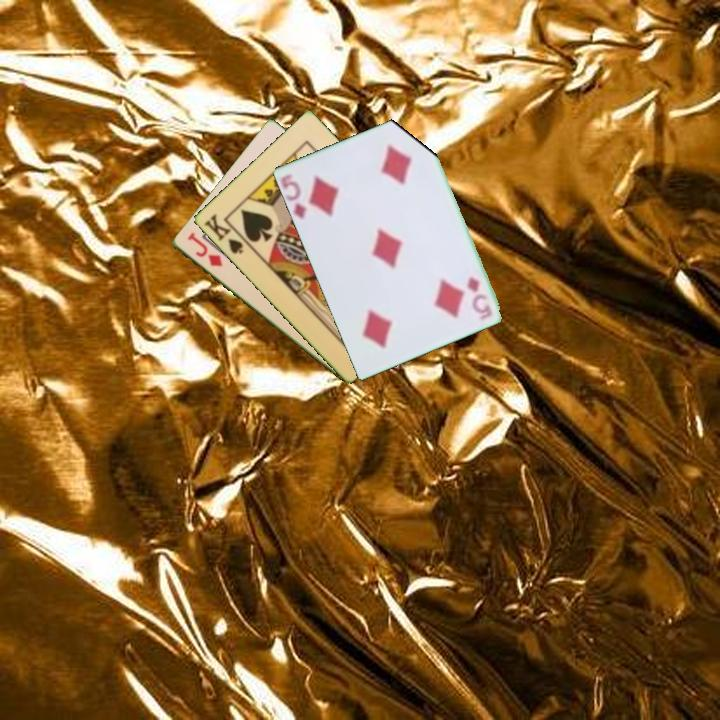5d: (464, 273, 495, 321), (280, 172, 309, 222)
Jd: (183, 229, 225, 270)
Ks: (200, 210, 252, 257)
